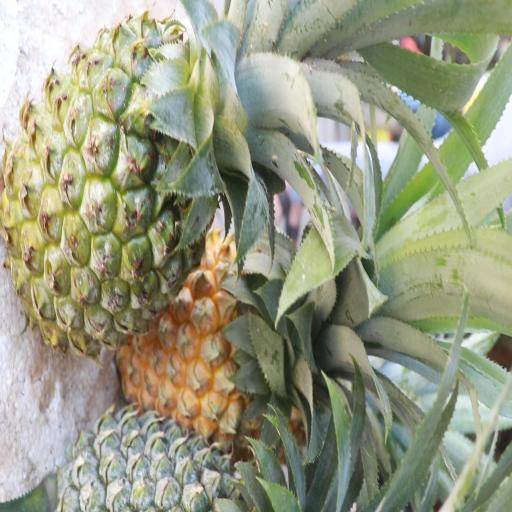------------------------------: (10, 23, 211, 346)
Pineapple - v8 v1: (121, 224, 301, 442)
